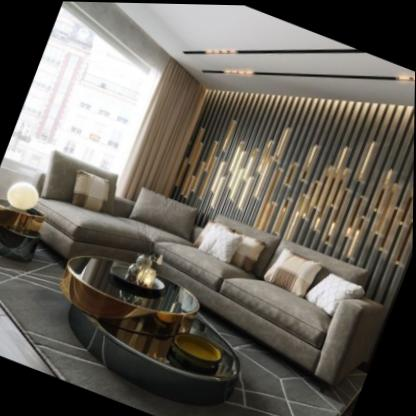Curtains: (115, 56, 214, 202)
Sofa: (2, 135, 400, 393)
Wall Panel: (170, 91, 415, 303)
